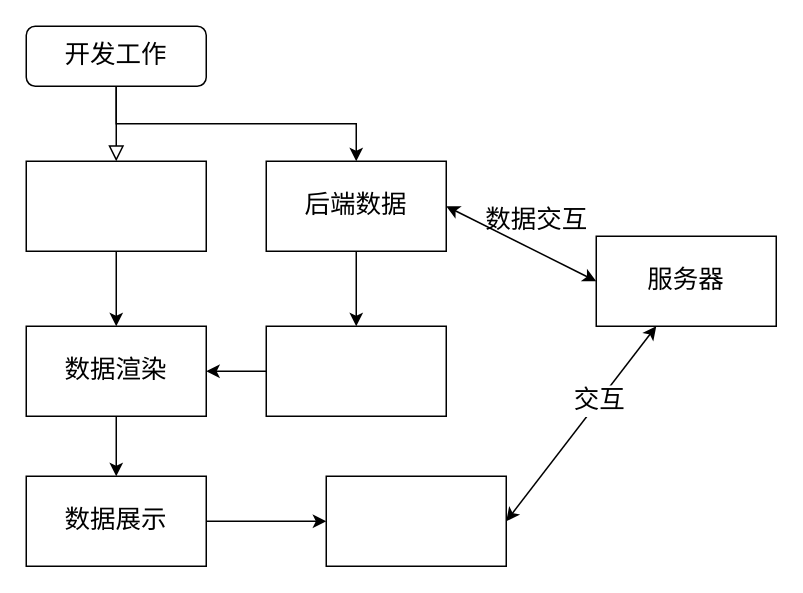
The diagram is 803 pixels wide and 593 high, and some of its shapes have lost their labels. Here are the shapes that lost their labels. From the top down, the box of each, then its label:
(25, 160, 206, 251): 前端页面
(265, 325, 446, 416): 大数据分析
(325, 475, 506, 566): 用户操作
